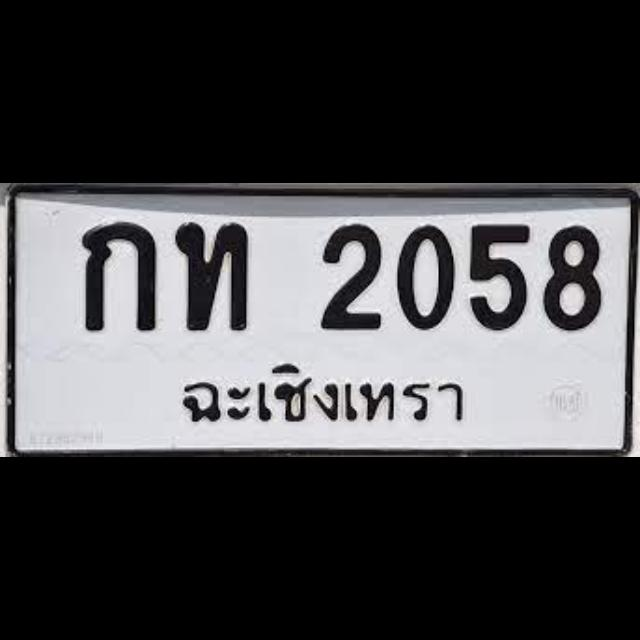licenseplate: (5, 183, 632, 457)
